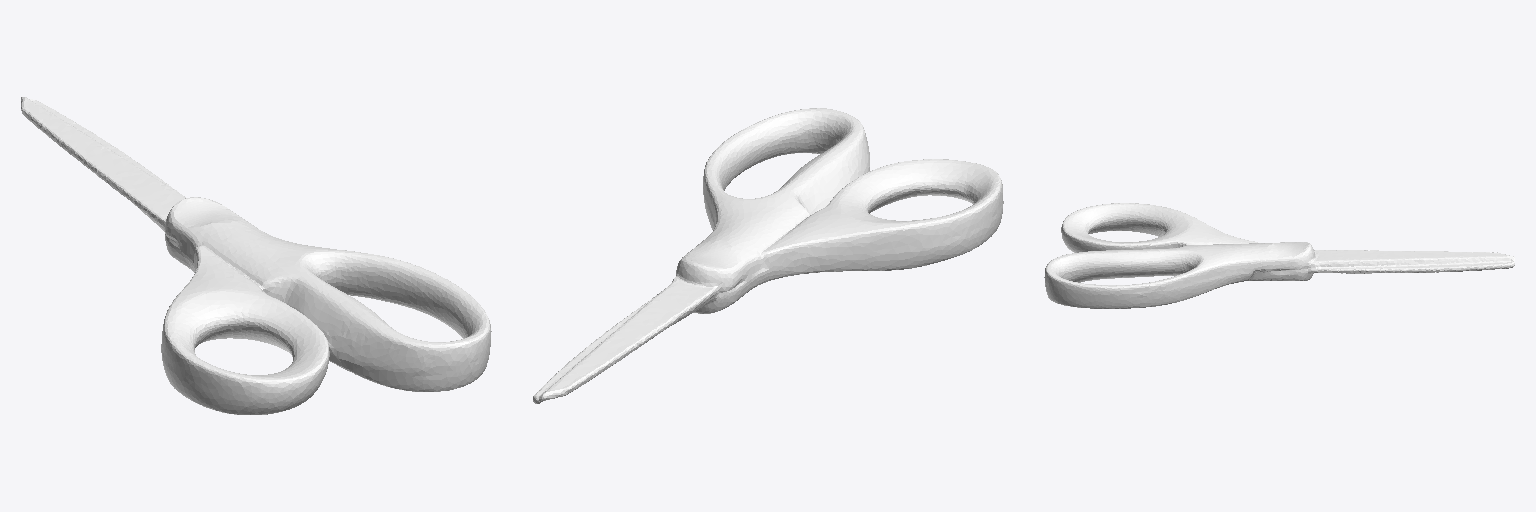
URDF robot description (037_scissors):
<?xml version="1.0"?>
<robot name="037_scissors">
	<link name="_name">
		<visual>
			<origin rpy="0 0 0" xyz="0 0 0" />
			<geometry>
				<mesh filename="037_scissors/google_16k/textured.obj" scale="1 1 1" />
			</geometry>
			<material name="texture">
				<color rgba="1.0 1.0 1.0 1.0" />
			</material>
		</visual>
		<collision>
			<origin rpy="0 0 0" xyz="0 0 0" />
			<geometry>
				<mesh filename="037_scissors/google_16k/textured_vhacd.obj" scale="1 1 1" />
			</geometry>
		</collision>
		<inertial>
			<origin rpy="0 0 0" xyz="0 0 0" /> 
			<mass value="0.082" />
			<inertia ixx="1.0" ixy="0.0" ixz="0.0" iyy="1.0" iyz="0.0" izz="1.0" />
		</inertial>
	</link>
</robot>

--- Facts derived from the render (not from the file) ---
The picture shows the robot from 3 angles, left to right: view 1: azimuth 30°, elevation 25°; view 2: azimuth 150°, elevation 25°; view 3: azimuth 270°, elevation 25°; orthographic projection.
Model 037_scissors with 1 links and 0 joints (none), rooted at _name, posed every joint at zero.
Visible links, largest first — view 1: _name; view 2: _name; view 3: _name.
Boxes of the visible links, x1,y1,x2,y2 form: _name: [21, 97, 491, 414]; _name: [533, 108, 1003, 403]; _name: [1044, 203, 1514, 308].
Size in the robot's own frame: 0.0874 by 0.2029 by 0.0156 metres.
Meshes: 1 distinct files referenced, 1 mesh visuals loaded (1 OBJ).
